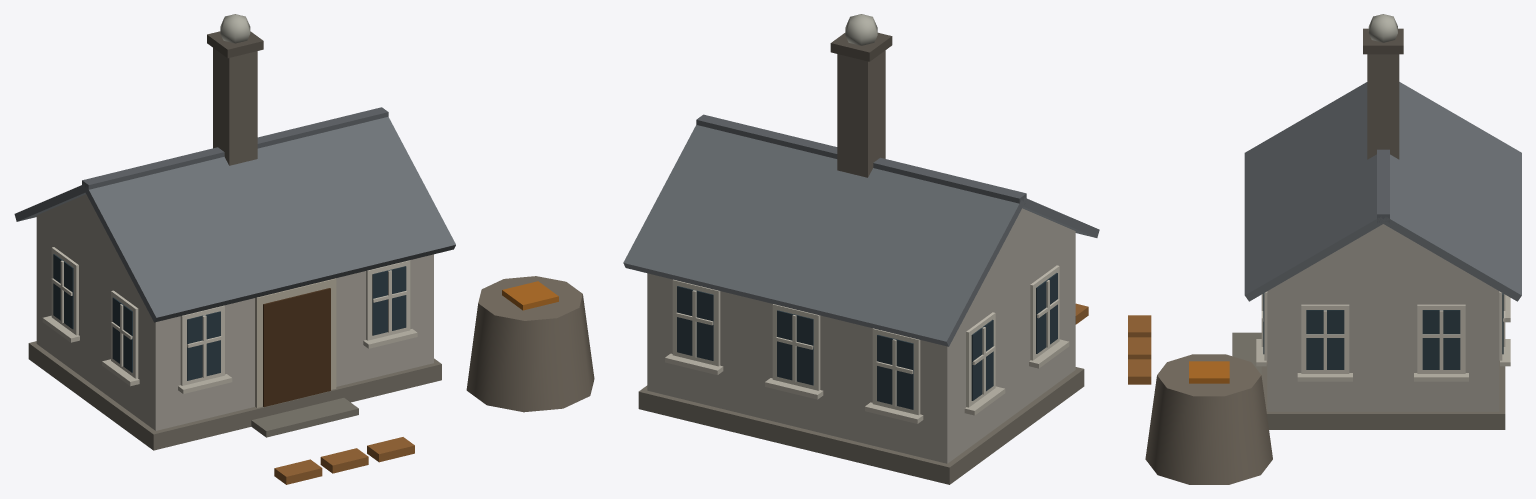
The model's file is procedural_bronze_foundry@6.glb.
The picture shows the model from 3 angles, left to right: view 1: azimuth 30°, elevation 25°; view 2: azimuth 150°, elevation 25°; view 3: azimuth 270°, elevation 25°; orthographic projection. The views are drawn at different scales.
Visible parts, largest first — view 1: part_0, part_4; view 2: part_0, part_4; view 3: part_0, part_4.
Part boxes in pixels (bbox=[...]): part_0: bbox=[14, 31, 594, 484]; part_4: bbox=[220, 14, 250, 43]; part_0: bbox=[623, 32, 1099, 484]; part_4: bbox=[845, 14, 877, 45]; part_0: bbox=[1128, 28, 1521, 484]; part_4: bbox=[1368, 14, 1397, 42].
Bounding box in the file's own units: 7.96 × 6.59 × 6.79.
